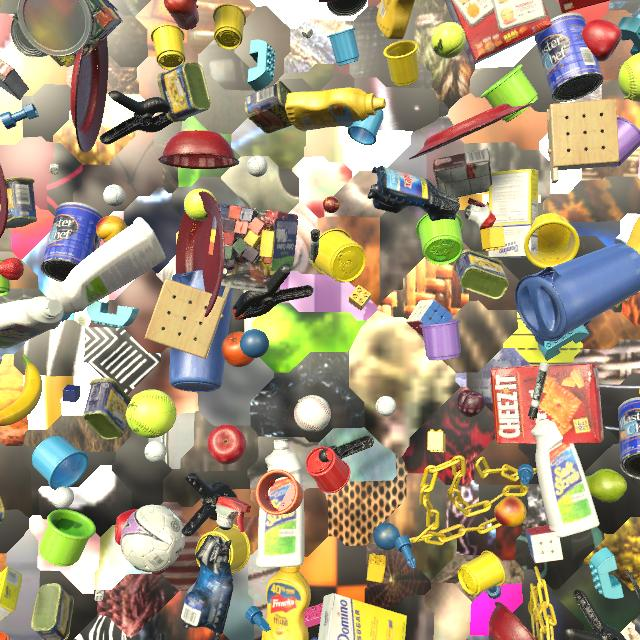ycb_002_master_chef_can: (534, 12, 604, 102), (40, 202, 104, 282), (618, 397, 640, 479)
ycb_003_cracker_box: (490, 362, 604, 444), (445, 0, 552, 64), (559, 0, 610, 13)
ycb_004_sugar_box: (488, 169, 538, 258), (318, 593, 407, 640), (0, 567, 22, 622)
ycb_006_mustard_bottle: (285, 88, 386, 130), (262, 566, 311, 640), (614, 217, 640, 308), (377, 0, 415, 40)
ycb_007_tuna_fish_can: (11, 19, 48, 57), (326, 0, 367, 17)
ycb_008_pudding_box: (433, 149, 492, 197), (0, 59, 29, 100)
ycb_010_potted_meat_can: (157, 62, 210, 122), (83, 377, 131, 440), (453, 249, 509, 300), (244, 81, 293, 134), (31, 583, 74, 640), (0, 177, 37, 228), (0, 497, 5, 525)
ycb_011_banana: (0, 355, 42, 426)
ycb_012_strawberry: (0, 258, 24, 280)
ycb_013_apple: (582, 20, 622, 62), (207, 424, 247, 464), (115, 509, 137, 546)
ycb_015_peach: (494, 496, 526, 527), (96, 216, 127, 243)
ycb_016_pear: (585, 469, 627, 503)
ycb_017_orange: (222, 332, 255, 367), (344, 126, 350, 128)
ycb_018_plum: (457, 390, 485, 417)
